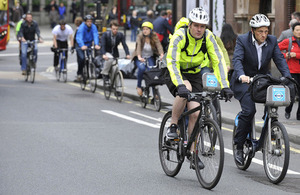commuter: (157, 7, 225, 189), (225, 13, 294, 185), (96, 23, 129, 103), (16, 12, 43, 84), (49, 19, 72, 82)
